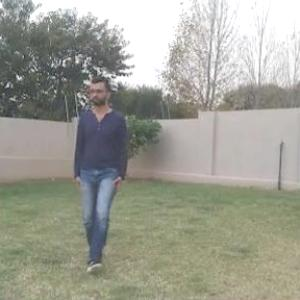follow: (73, 72, 122, 264)
